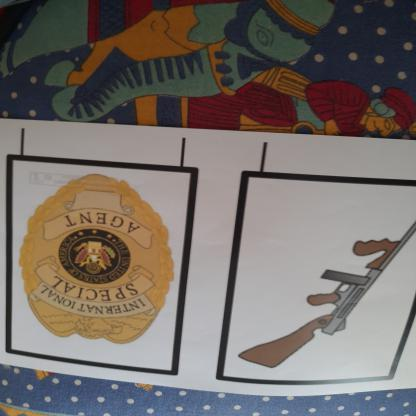Bootlegger: (236, 190, 416, 375)
G-man: (13, 168, 184, 359)
